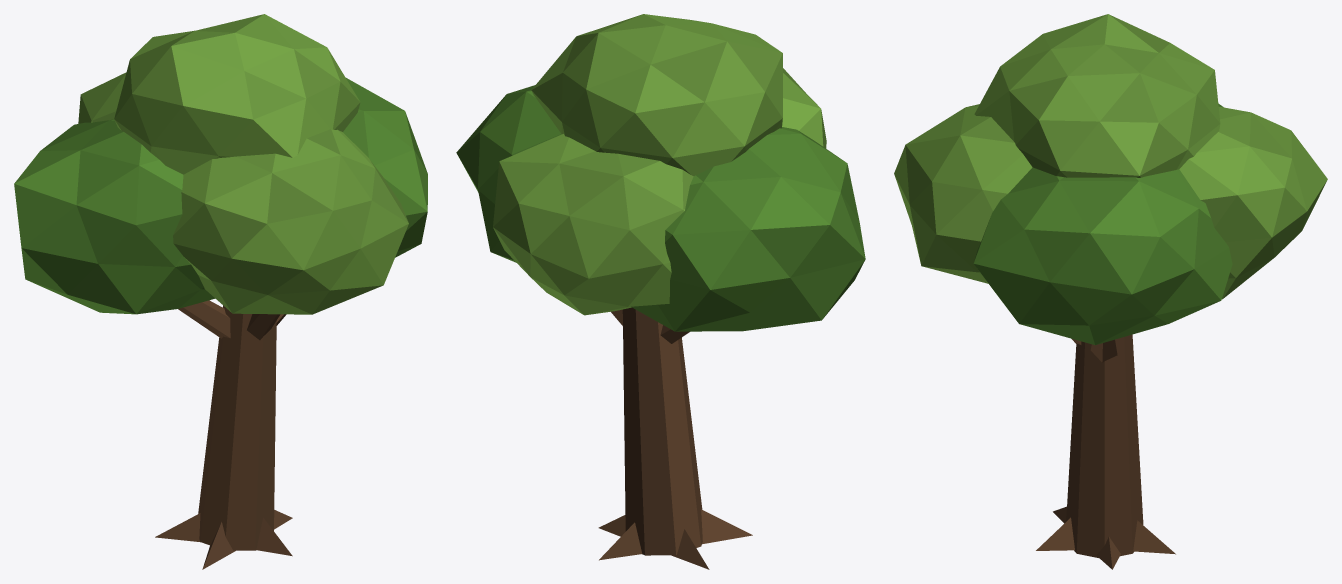
Rendered from oak_b.glb.
3 renders of one model, left to right at view 1: azimuth 30°, elevation 25°; view 2: azimuth 150°, elevation 25°; view 3: azimuth 270°, elevation 25°, orthographic. The views are drawn at different scales.
Visible parts, largest first — view 1: oak_b; view 2: oak_b; view 3: oak_b.
Part boxes in pixels (x1=…): oak_b: x1=14, y1=14, x2=427, y2=569; oak_b: x1=456, y1=14, x2=865, y2=569; oak_b: x1=894, y1=14, x2=1327, y2=569.
Size of the model in its own units: 3.74 by 4.59 by 3.62.
Materials: 1 (1 with a texture image).
